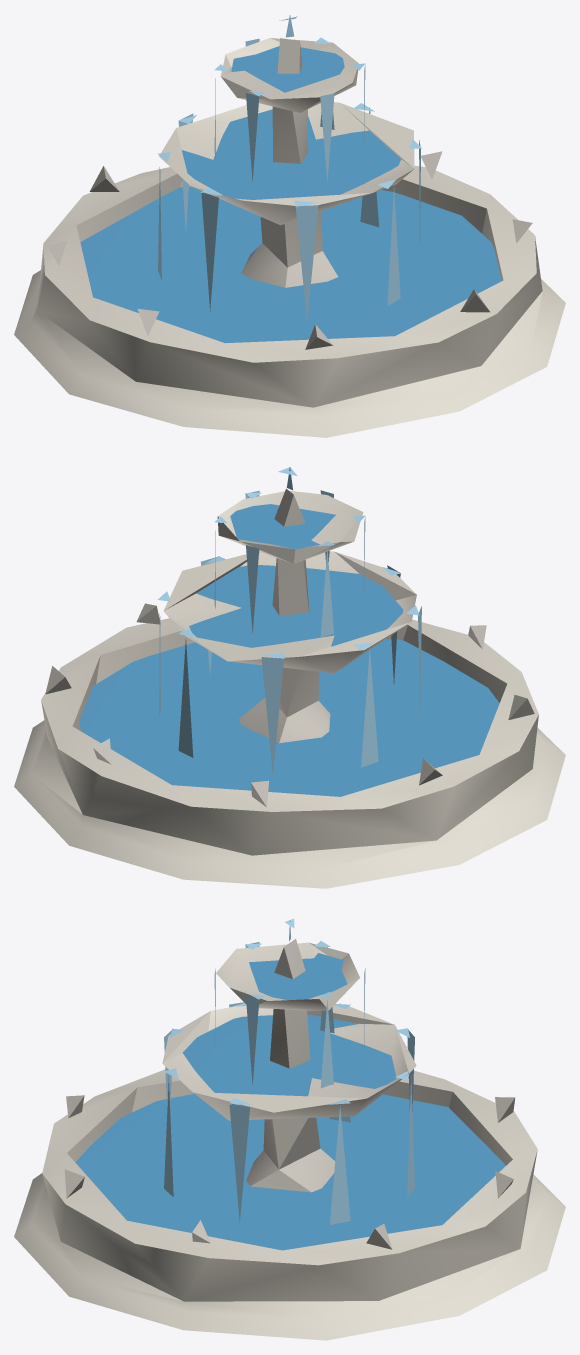
File: generated.fountain.gltf
The picture shows the model from 3 angles, top to bottom: view 1: azimuth 30°, elevation 25°; view 2: azimuth 150°, elevation 25°; view 3: azimuth 270°, elevation 25°; orthographic projection.
Visible parts, largest first — view 1: Fountain; view 2: Fountain; view 3: Fountain.
Boxes of the visible parts, x1,y1,x2,y2 form: Fountain: [14, 15, 565, 437]; Fountain: [14, 467, 565, 888]; Fountain: [14, 918, 565, 1340].
Bounding box in the file's own units: 4.8 × 2.96 × 4.8.
